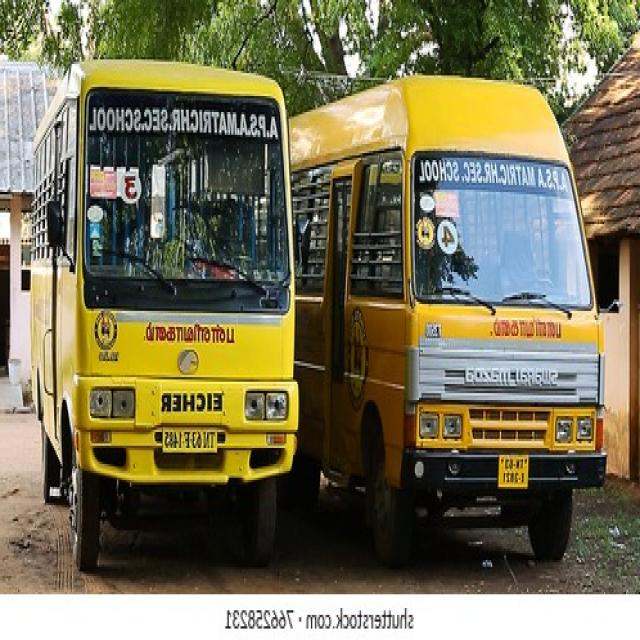bus: (288, 75, 608, 569), (28, 59, 301, 574)
